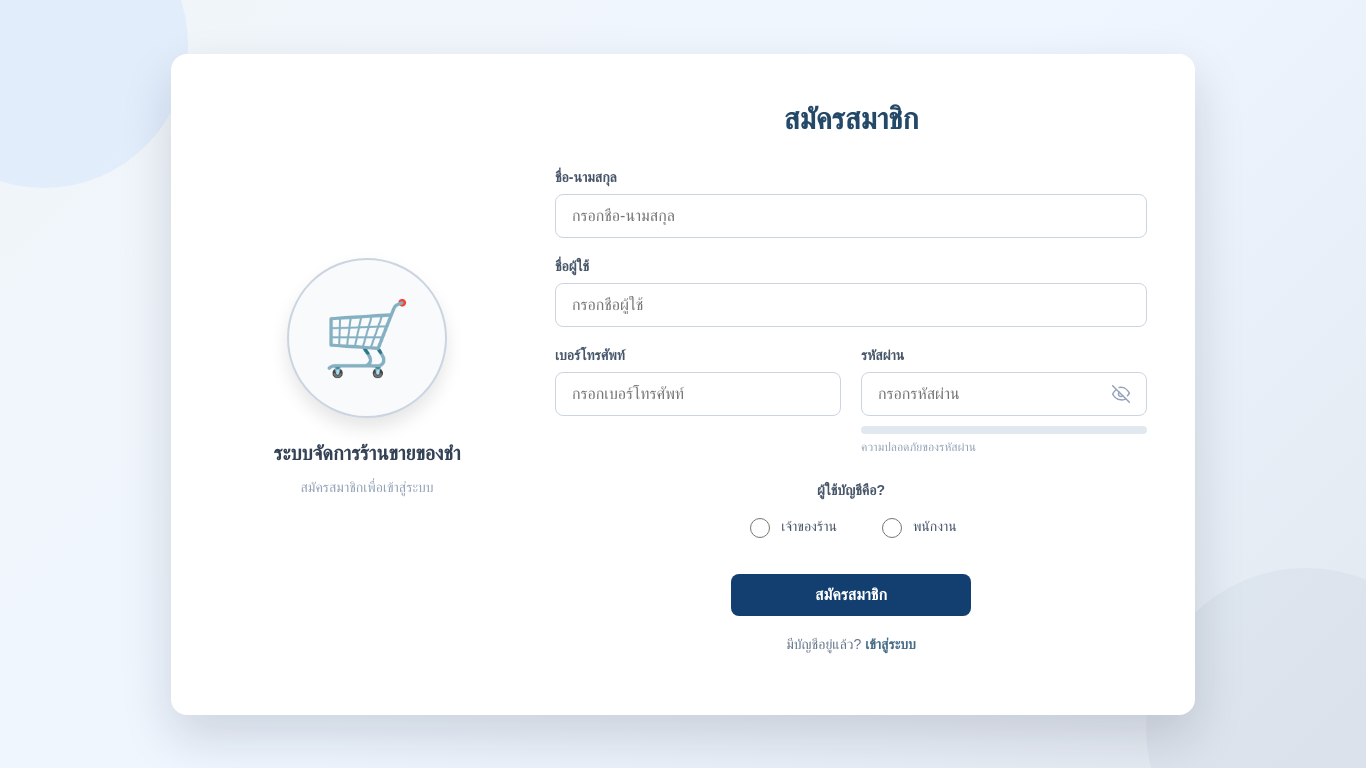
it: Register page › แจ้งเตือนเมื่อไม่ได้เลือกประเภทผู้ใช้
The image size is (1366, 768).
Type "สมชาย ทดสอบ" into the field labelled "ชื่อ-นามสกุล" at (851, 216), box x1=555 y1=194 x2=1147 y2=238
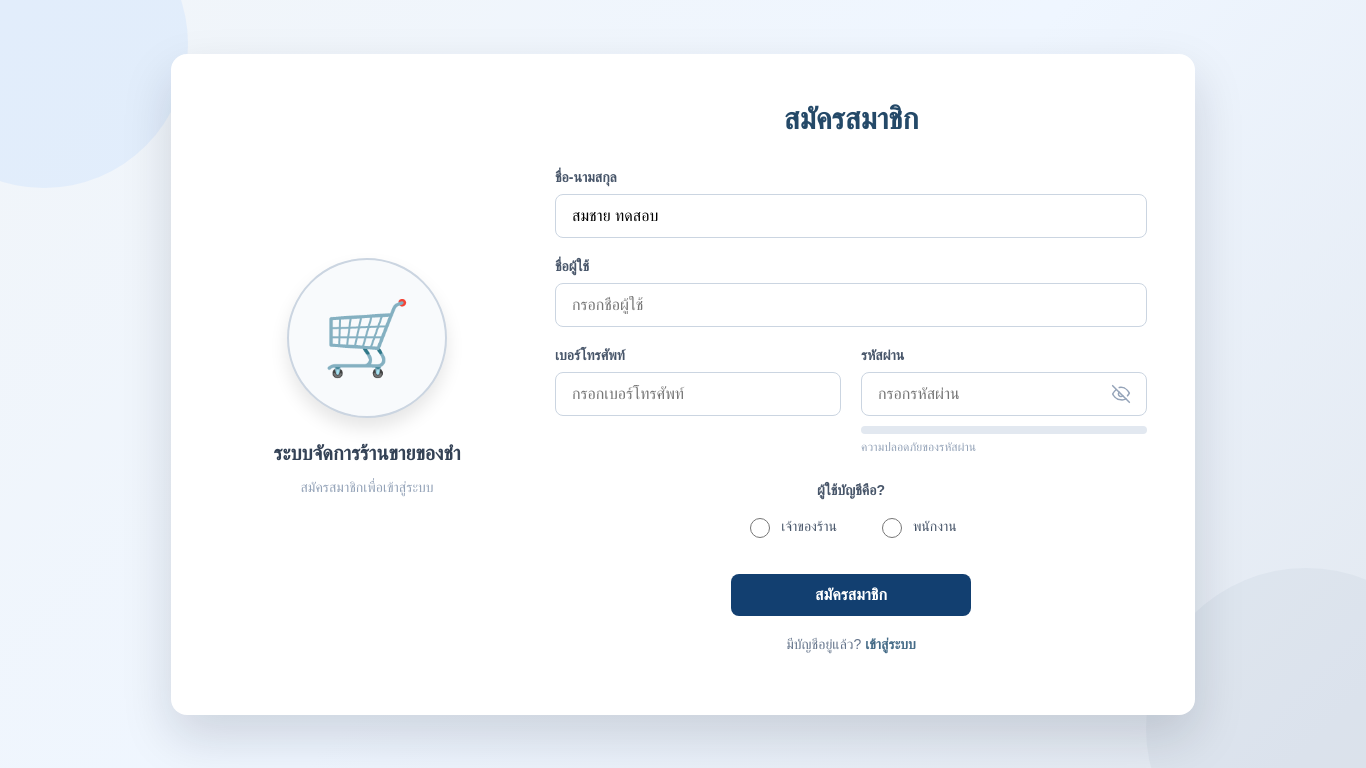
Type "somchai" into the field labelled "ชื่อผู้ใช้" at (851, 304), box x1=555 y1=282 x2=1147 y2=326
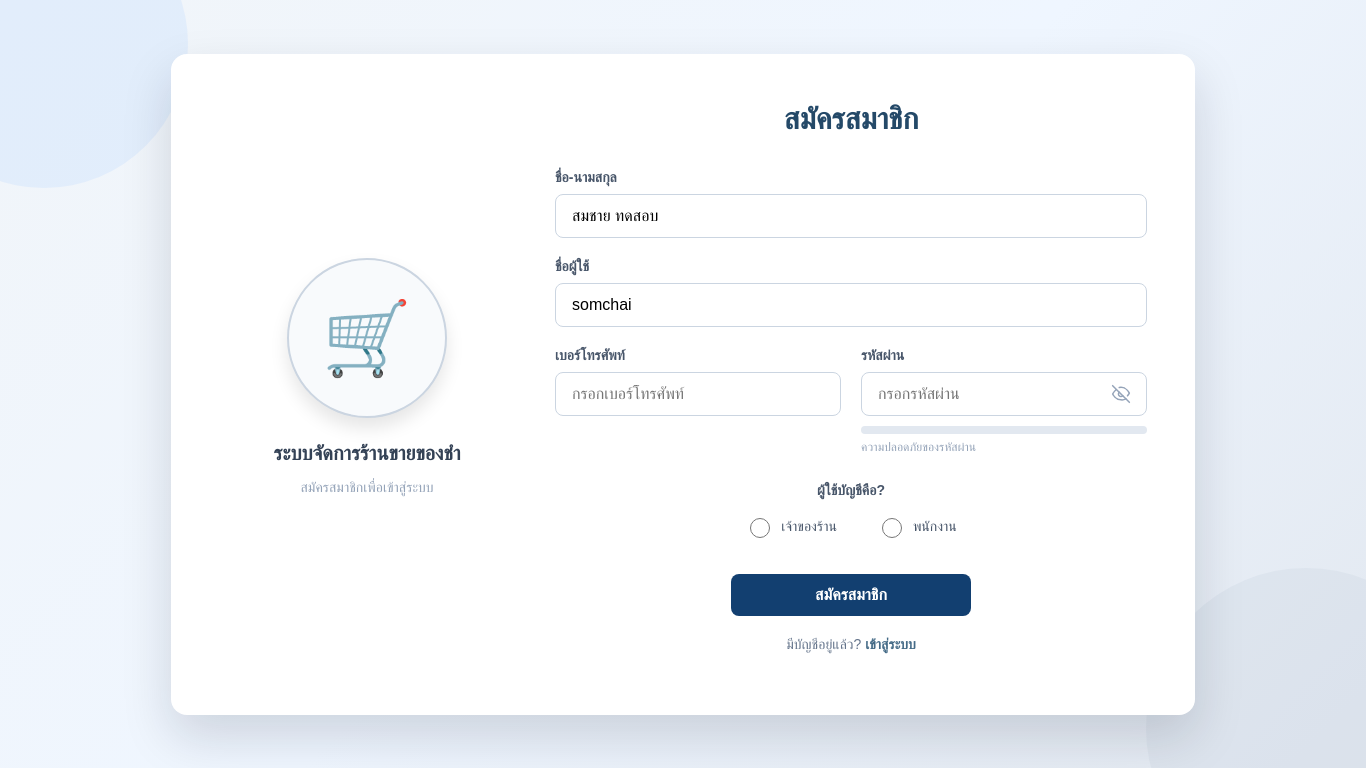
Type "0812345678" into the field labelled "เบอร์โทรศัพท์" at (698, 394), box x1=555 y1=372 x2=841 y2=416
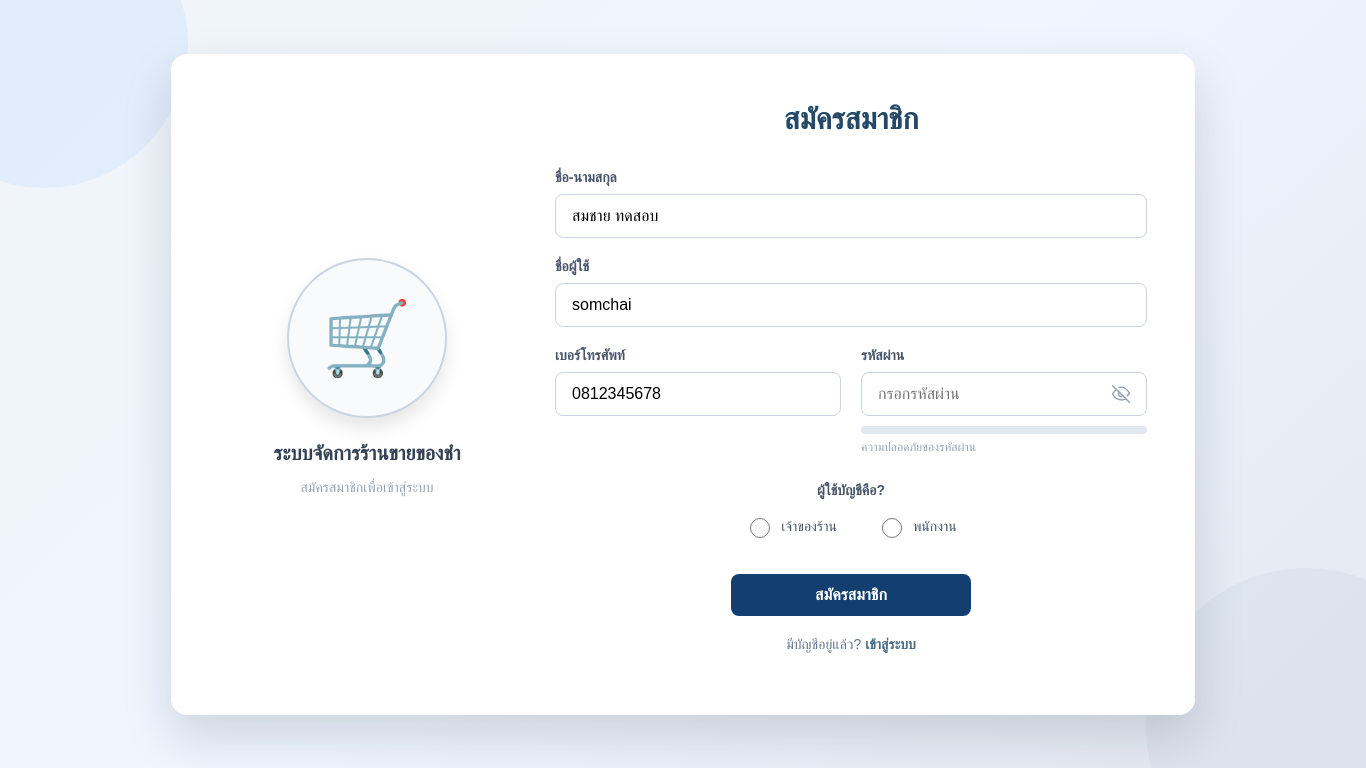
Type "abcdef1234" into the password field labelled "รหัสผ่าน" at (1004, 394), box x1=861 y1=372 x2=1147 y2=416
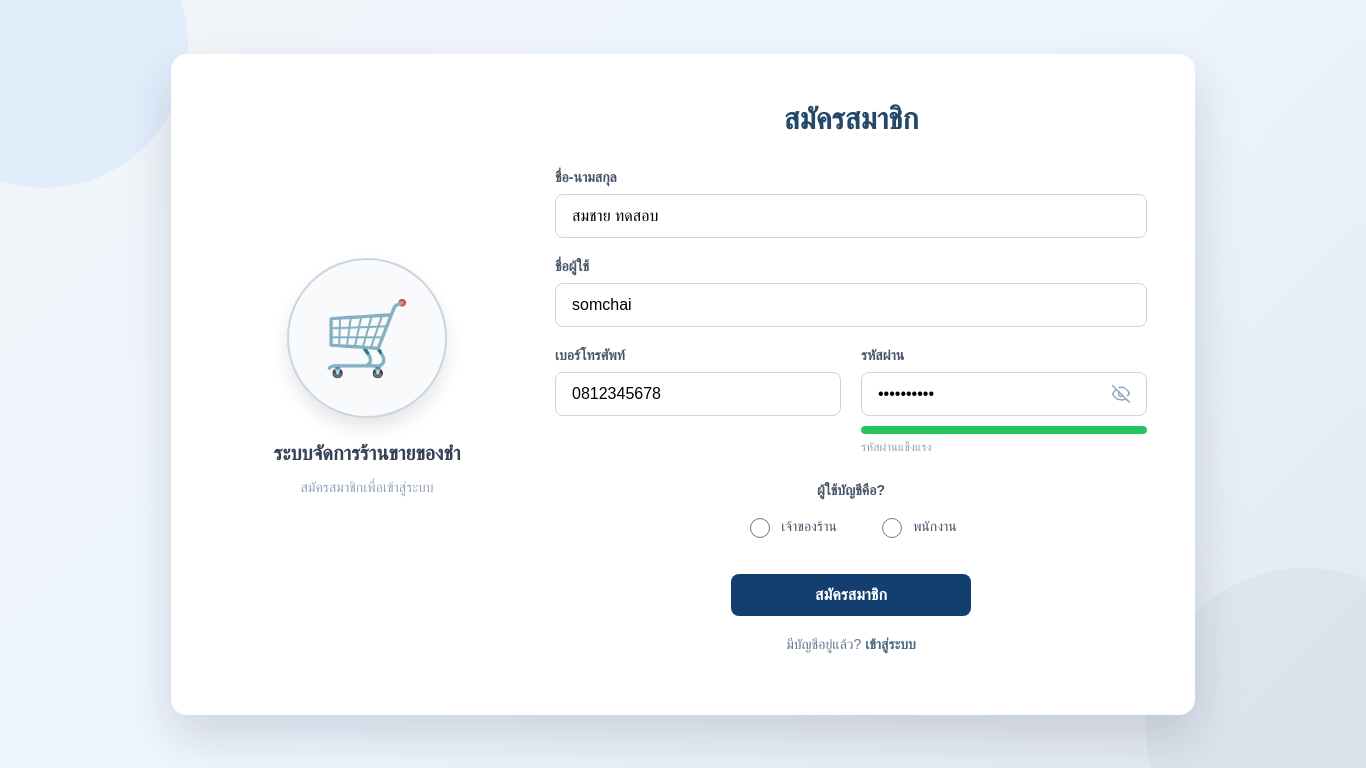
Submit the form with class "register-form", box x1=555 y1=102 x2=1147 y2=666
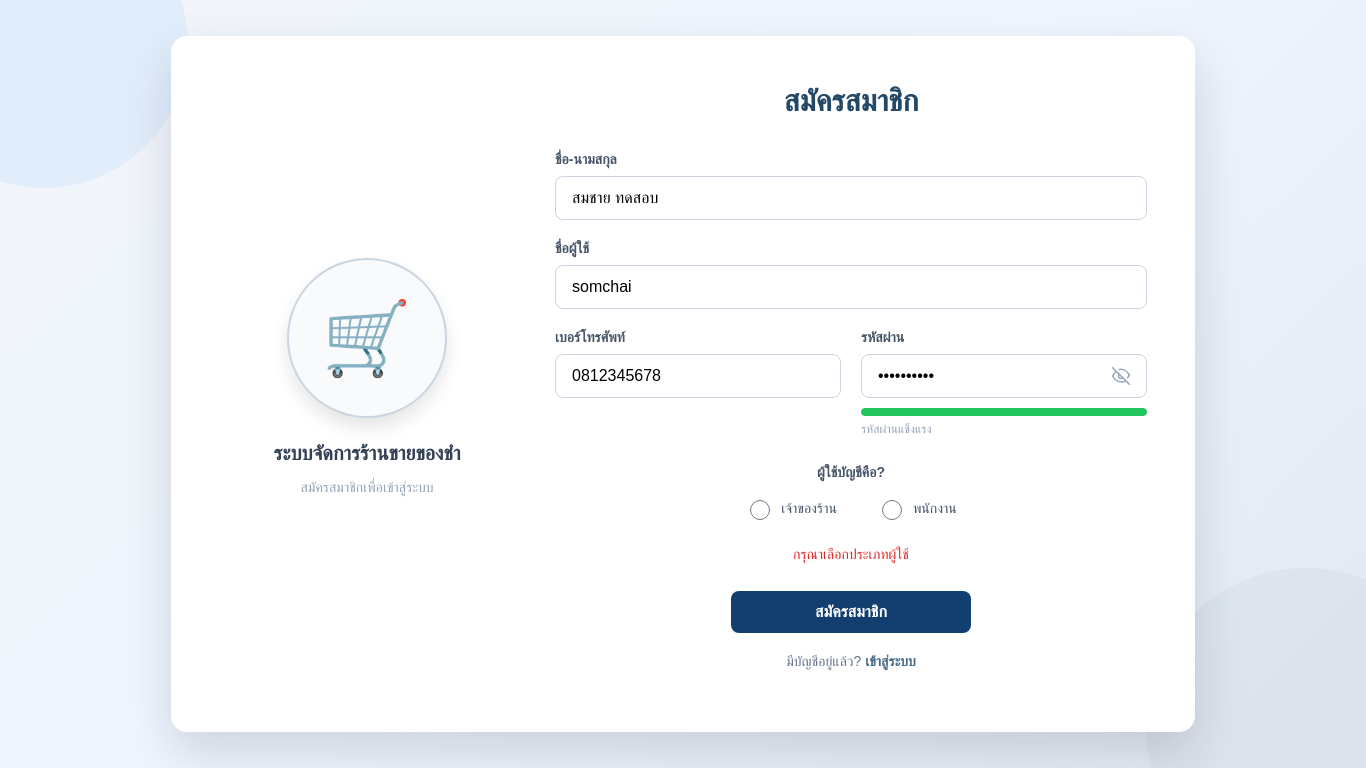
Expected: the message reads "กรุณาเลือกประเภทผู้ใช้", x1=793 y1=546 x2=909 y2=562
